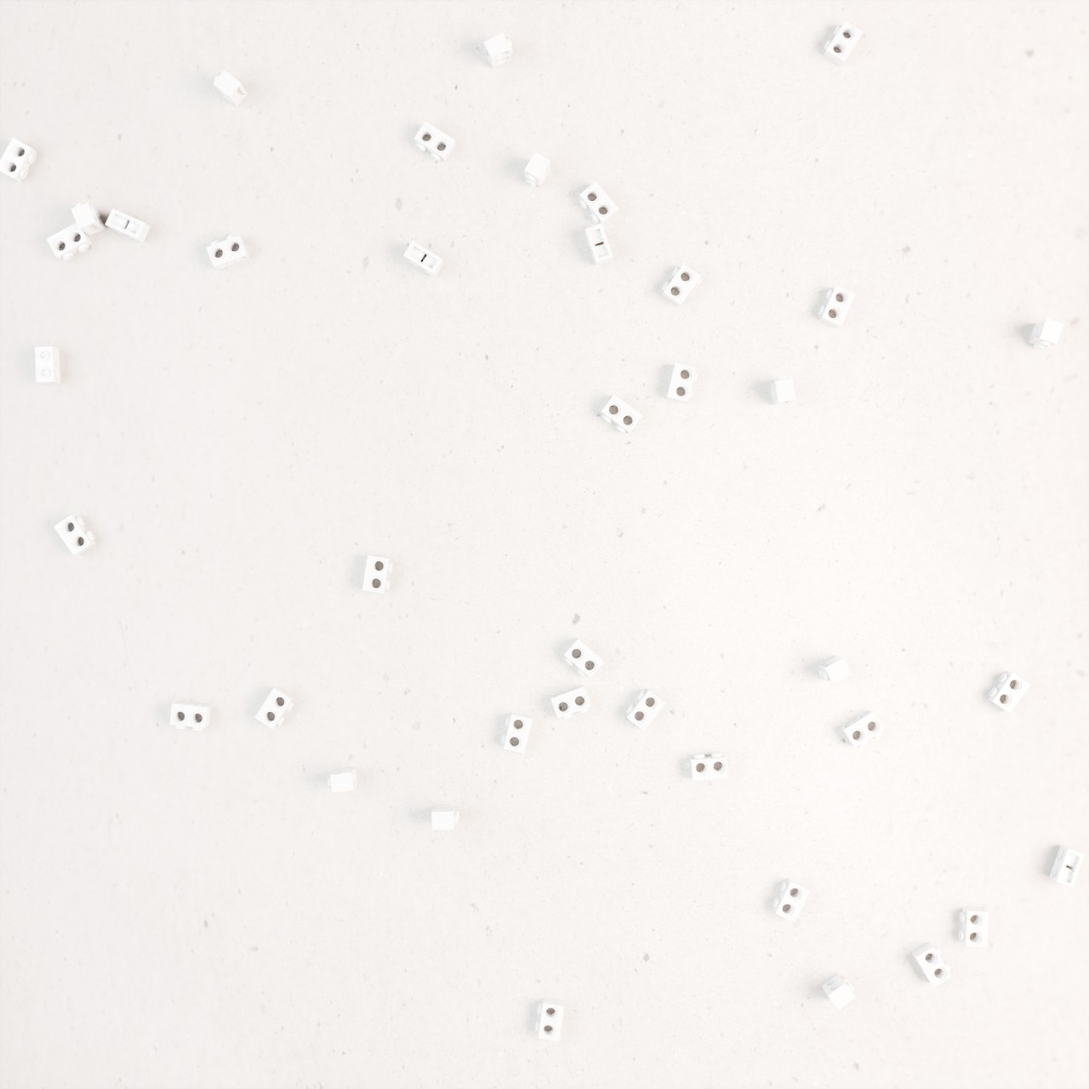lego: (911, 942, 952, 988), (823, 21, 863, 67), (988, 671, 1030, 714), (46, 222, 92, 261), (54, 515, 96, 556), (414, 121, 456, 162), (662, 264, 701, 308), (579, 181, 618, 225), (840, 710, 885, 748), (772, 878, 810, 923), (0, 137, 37, 183), (626, 689, 666, 731), (255, 686, 294, 729), (818, 285, 856, 329), (601, 394, 642, 434), (564, 638, 605, 678), (1049, 844, 1085, 888), (206, 234, 250, 270), (105, 208, 150, 243), (403, 240, 444, 278), (551, 685, 591, 720), (213, 70, 248, 107), (821, 973, 856, 1010), (666, 363, 698, 403), (501, 712, 532, 753), (584, 223, 613, 266), (535, 998, 564, 1041), (362, 555, 393, 594), (959, 907, 989, 947), (71, 202, 106, 236), (170, 702, 211, 731), (1029, 318, 1064, 350), (483, 32, 513, 69), (690, 752, 728, 781), (35, 346, 61, 385), (818, 655, 852, 684), (524, 152, 551, 188), (327, 767, 358, 793), (770, 376, 796, 406), (432, 805, 459, 830)
